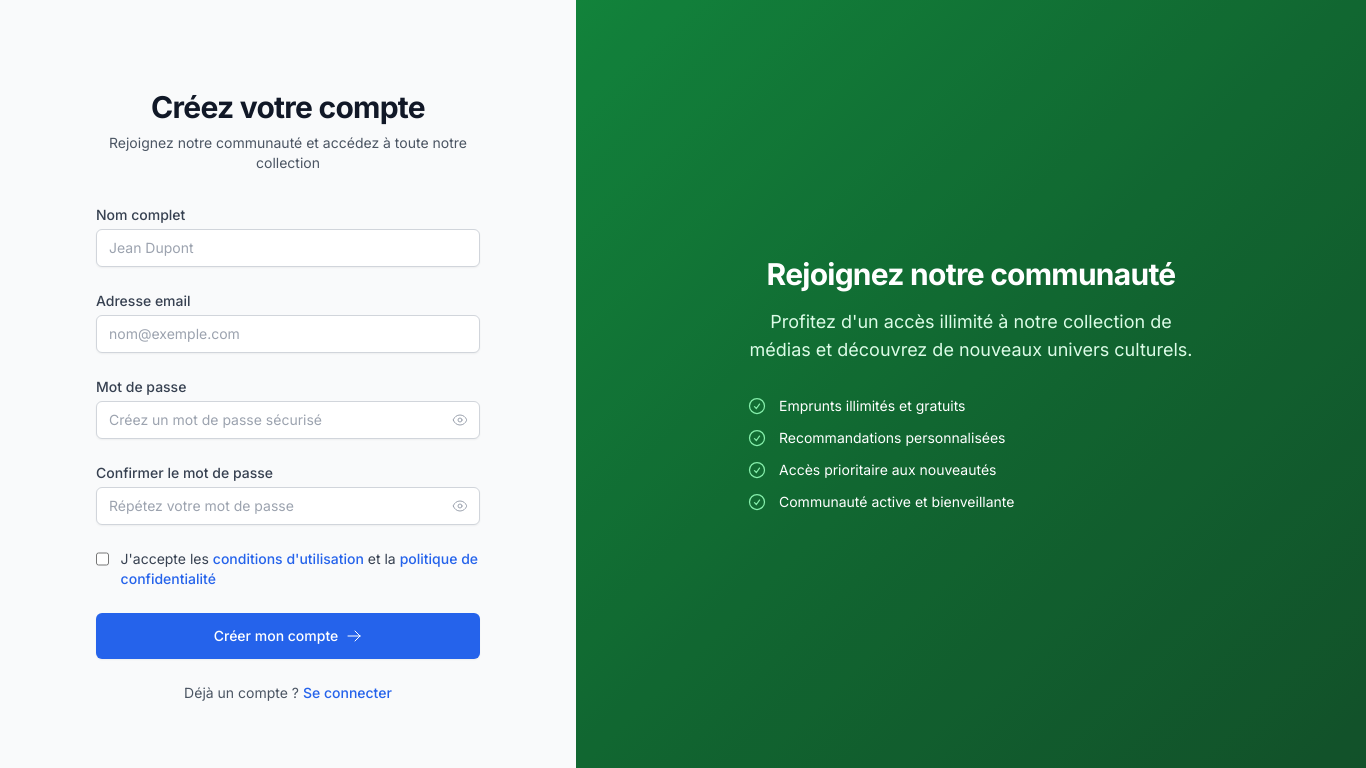
Test: RegisterPage › Validation des champs › affiche une erreur si le nom est trop court
Type "a" into the field with placeholder "Jean Dupont" at [288, 248], box [96,229,480,267]
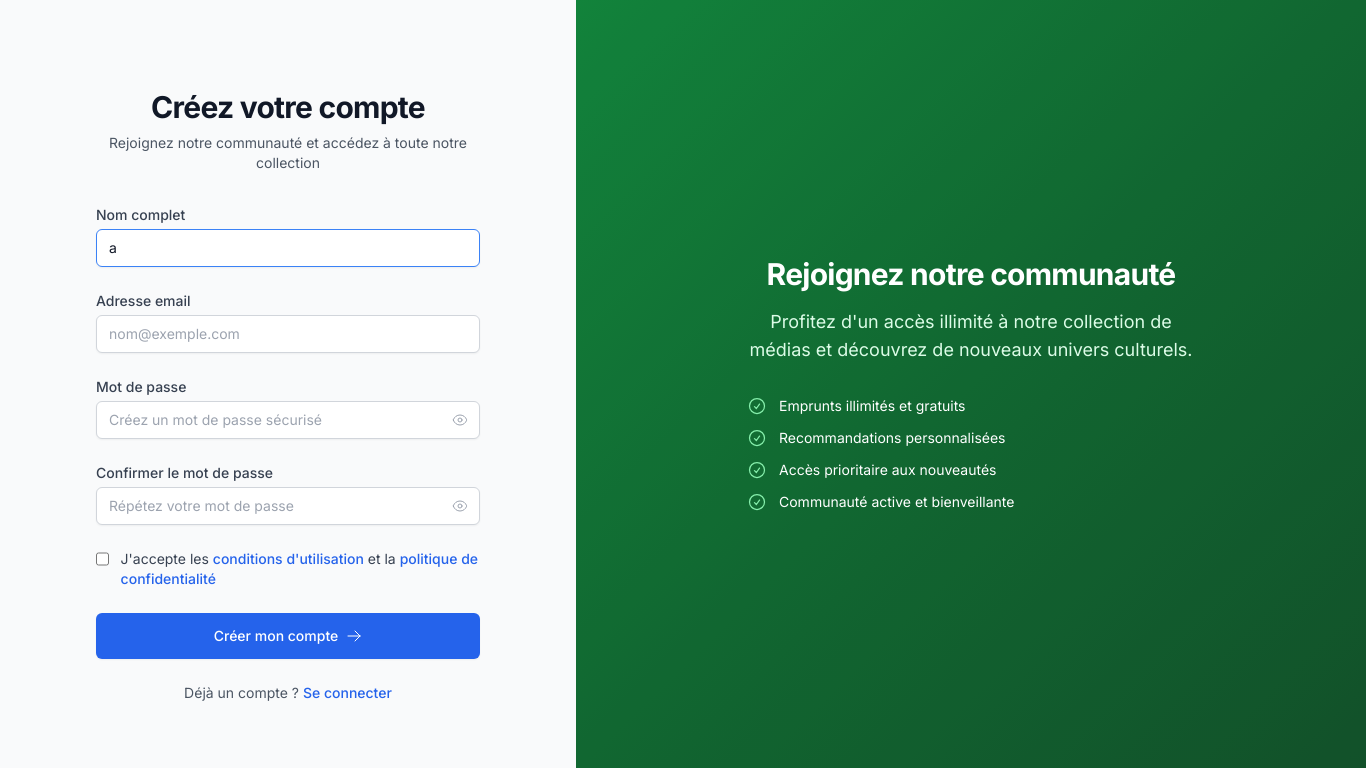
Cocher les conditions d'utilisation
Click the checkbox labelled "J'accepte les conditions d'utilisation" at [102, 559], box [96,551,109,567]
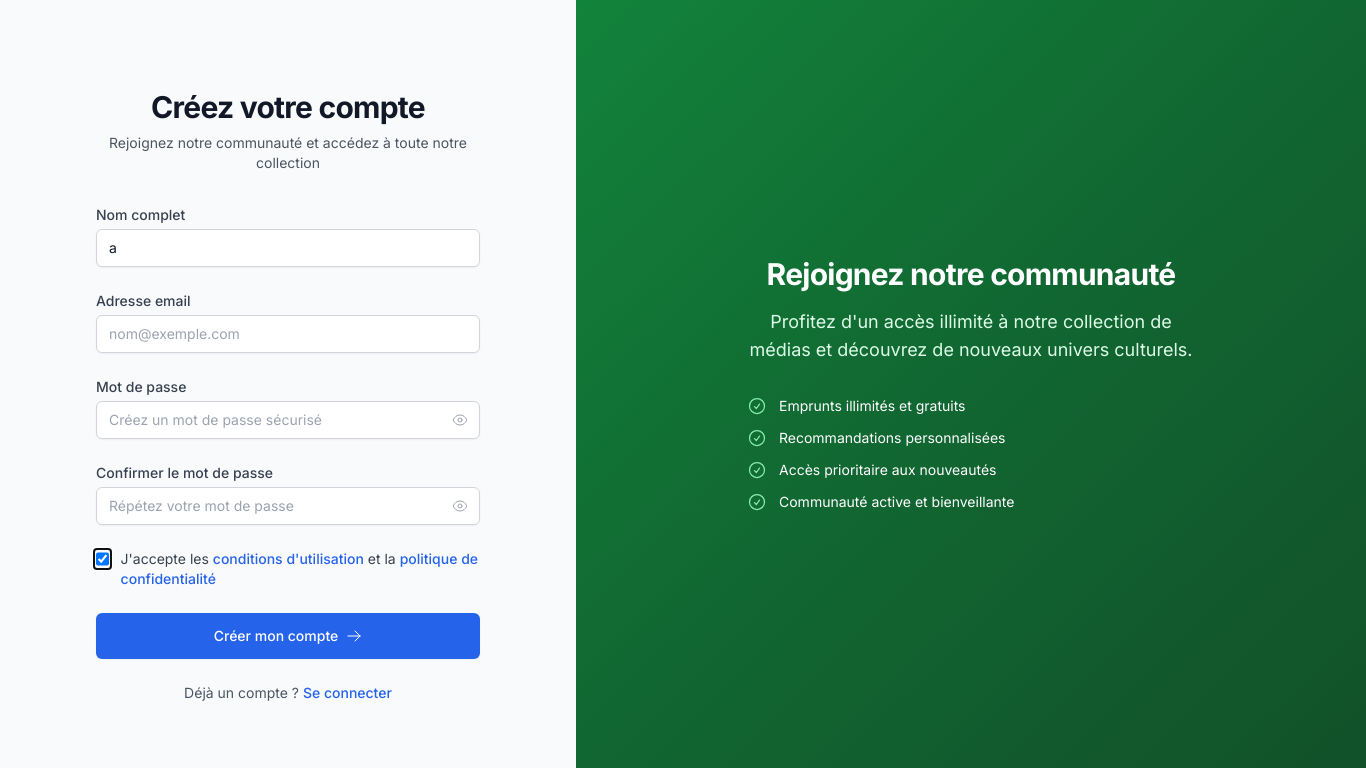
Click the button "Créer mon compte" at [288, 636], box [96,613,480,659]
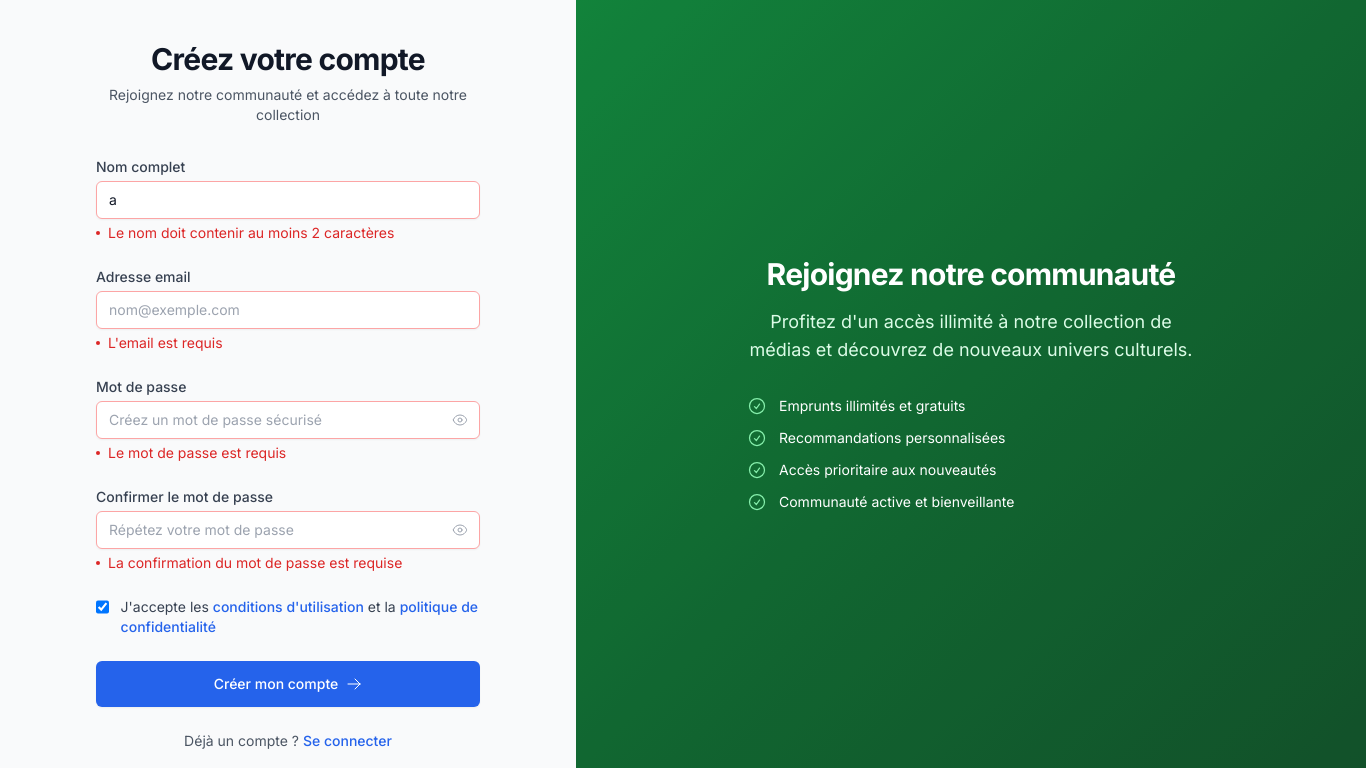
Now the text "Le nom doit contenir au moins 2 caractères" is shown, box [96,224,394,241]
